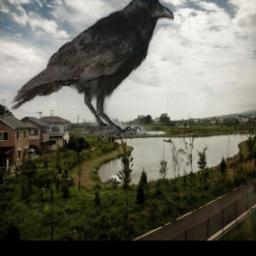Crow: (9, 0, 175, 136)
